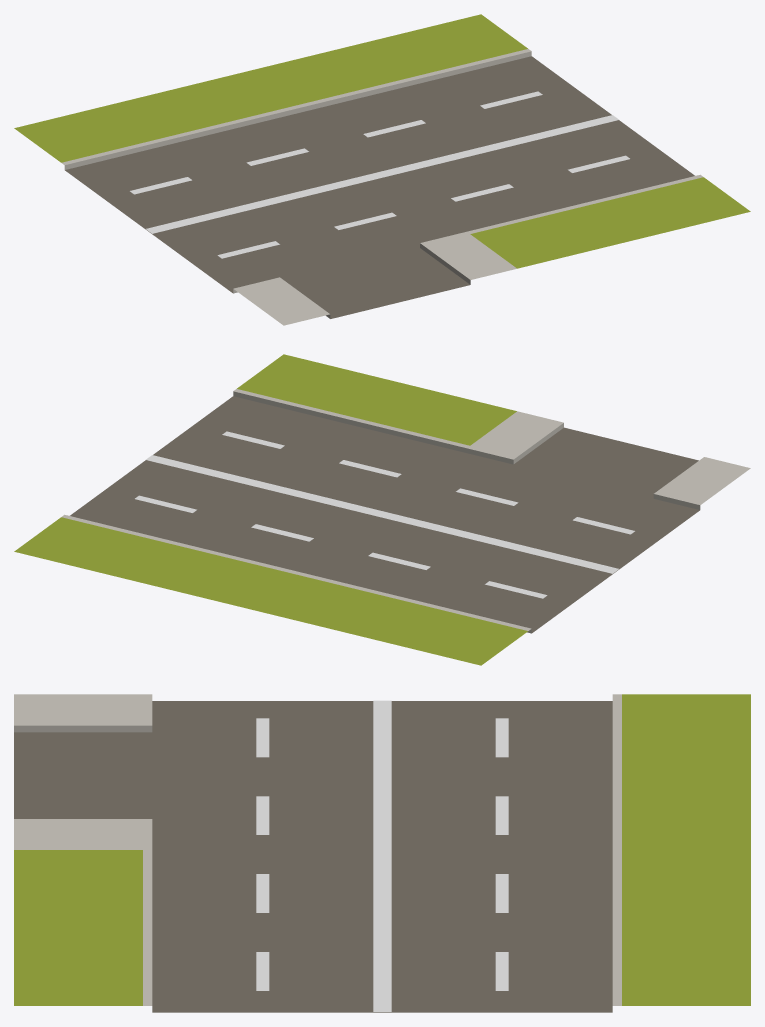
The model's file is road-tile-big_02.fbx.
3 renders of one model, top to bottom at view 1: azimuth 30°, elevation 25°; view 2: azimuth 150°, elevation 25°; view 3: azimuth 270°, elevation 25°, orthographic. The views are drawn at different scales.
Visible parts, largest first — view 1: road-tile-big_02; view 2: road-tile-big_02; view 3: road-tile-big_02.
Part boxes in pixels (x1,y1,x2,y2): road-tile-big_02: [14, 14, 750, 325]; road-tile-big_02: [14, 354, 750, 665]; road-tile-big_02: [14, 694, 750, 1012].
Size of the model in its own units: 2000 by 20 by 2000.
